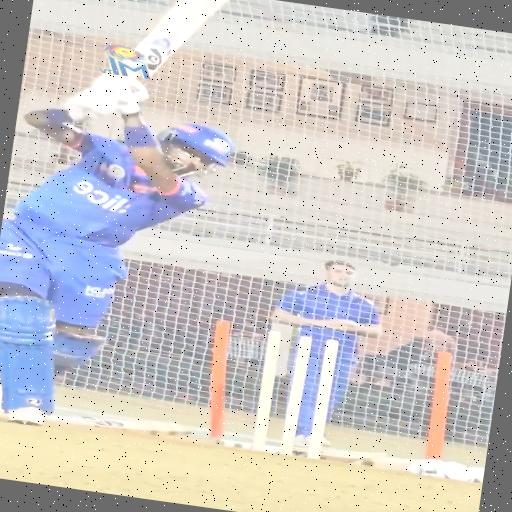Cricket bat: (136, 0, 228, 75)
